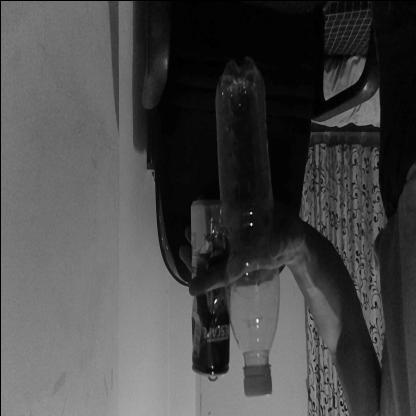alumunium_can: (186, 199, 228, 385)
plastic_bottles: (215, 64, 283, 400)
